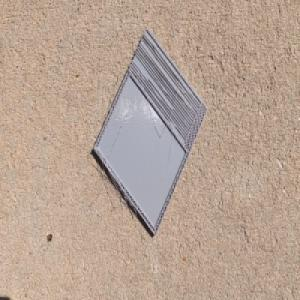PlasticPart: (93, 26, 209, 238)
